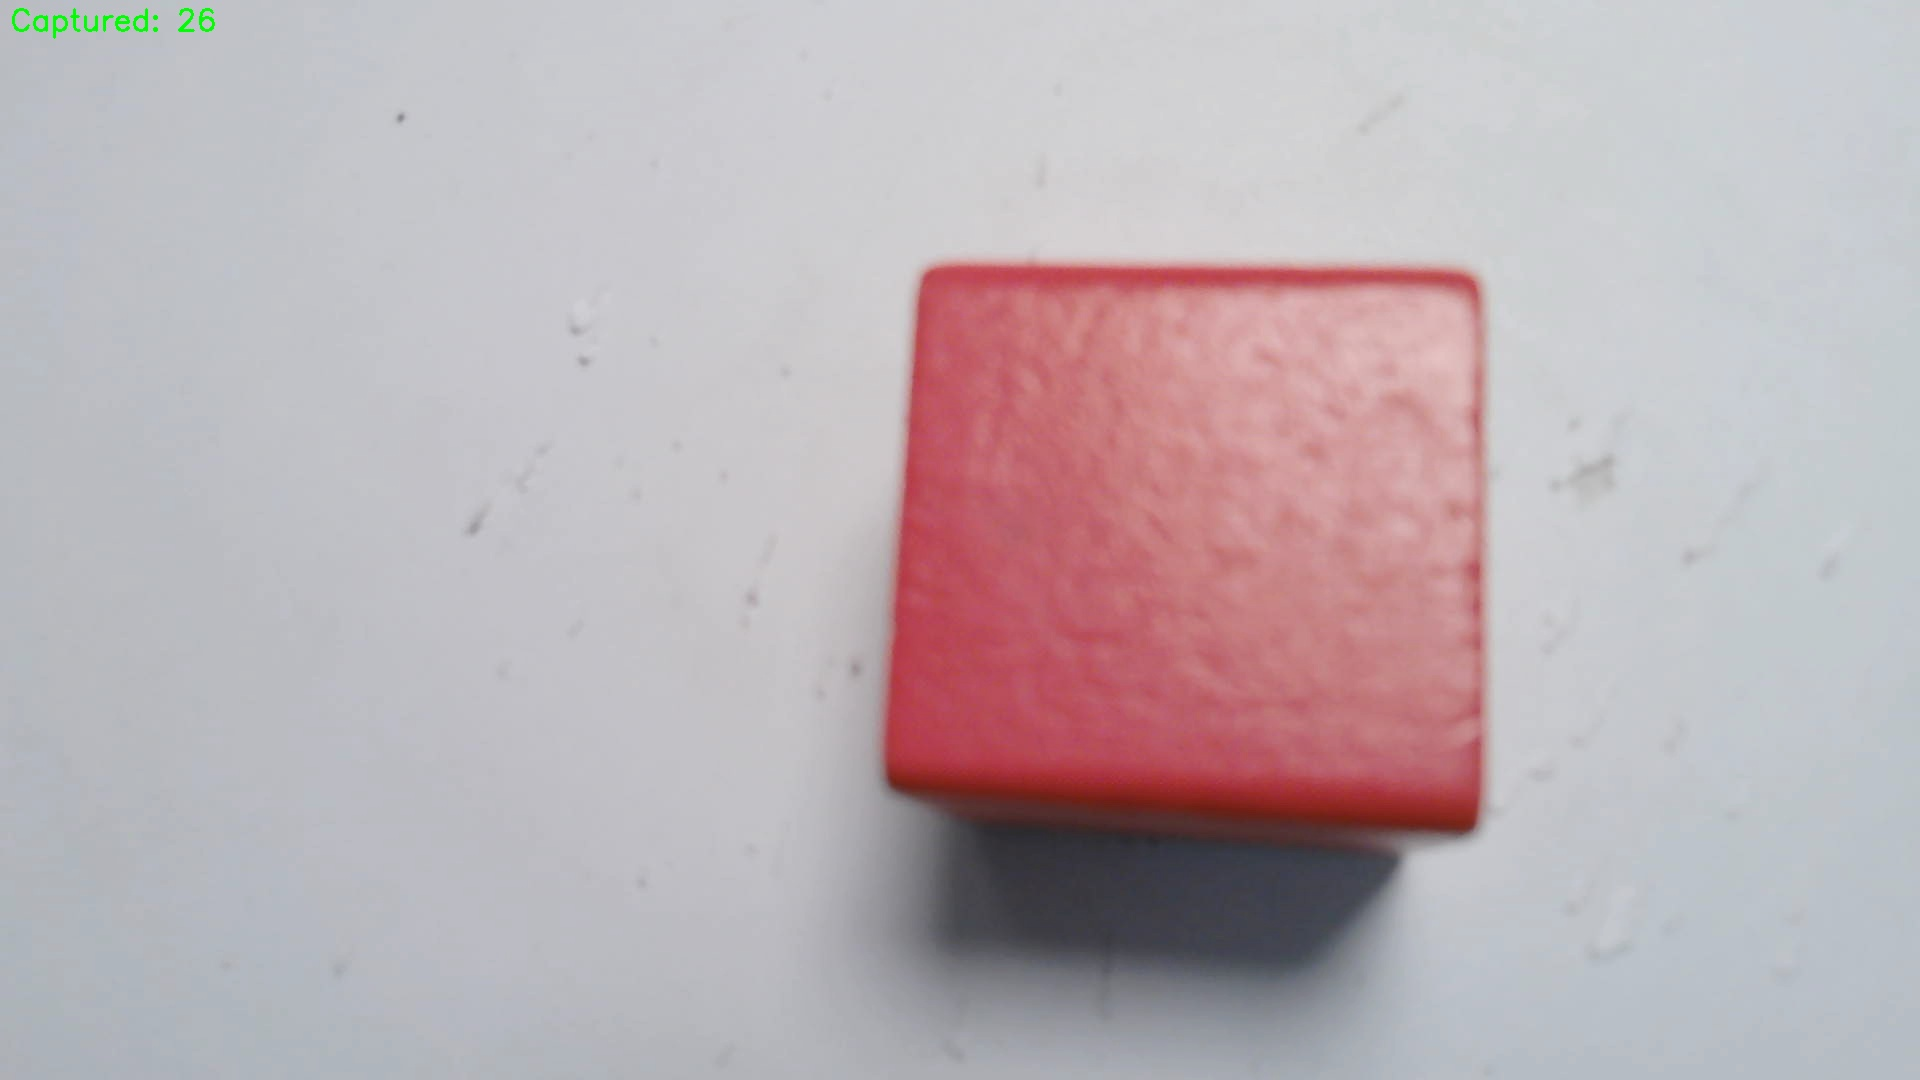red: (880, 261, 1487, 844)
